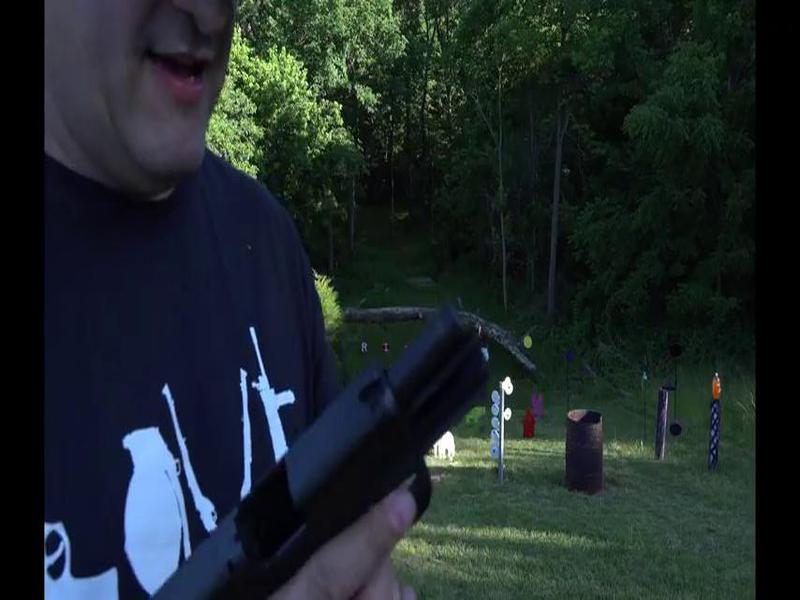Pistola: (143, 302, 508, 600)
